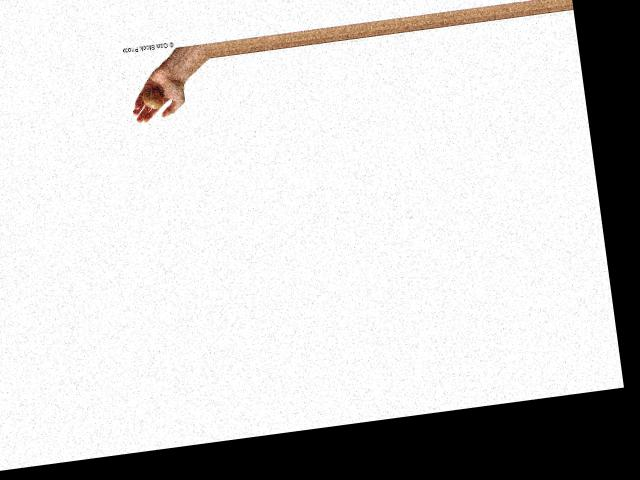egg: (141, 88, 162, 109)
